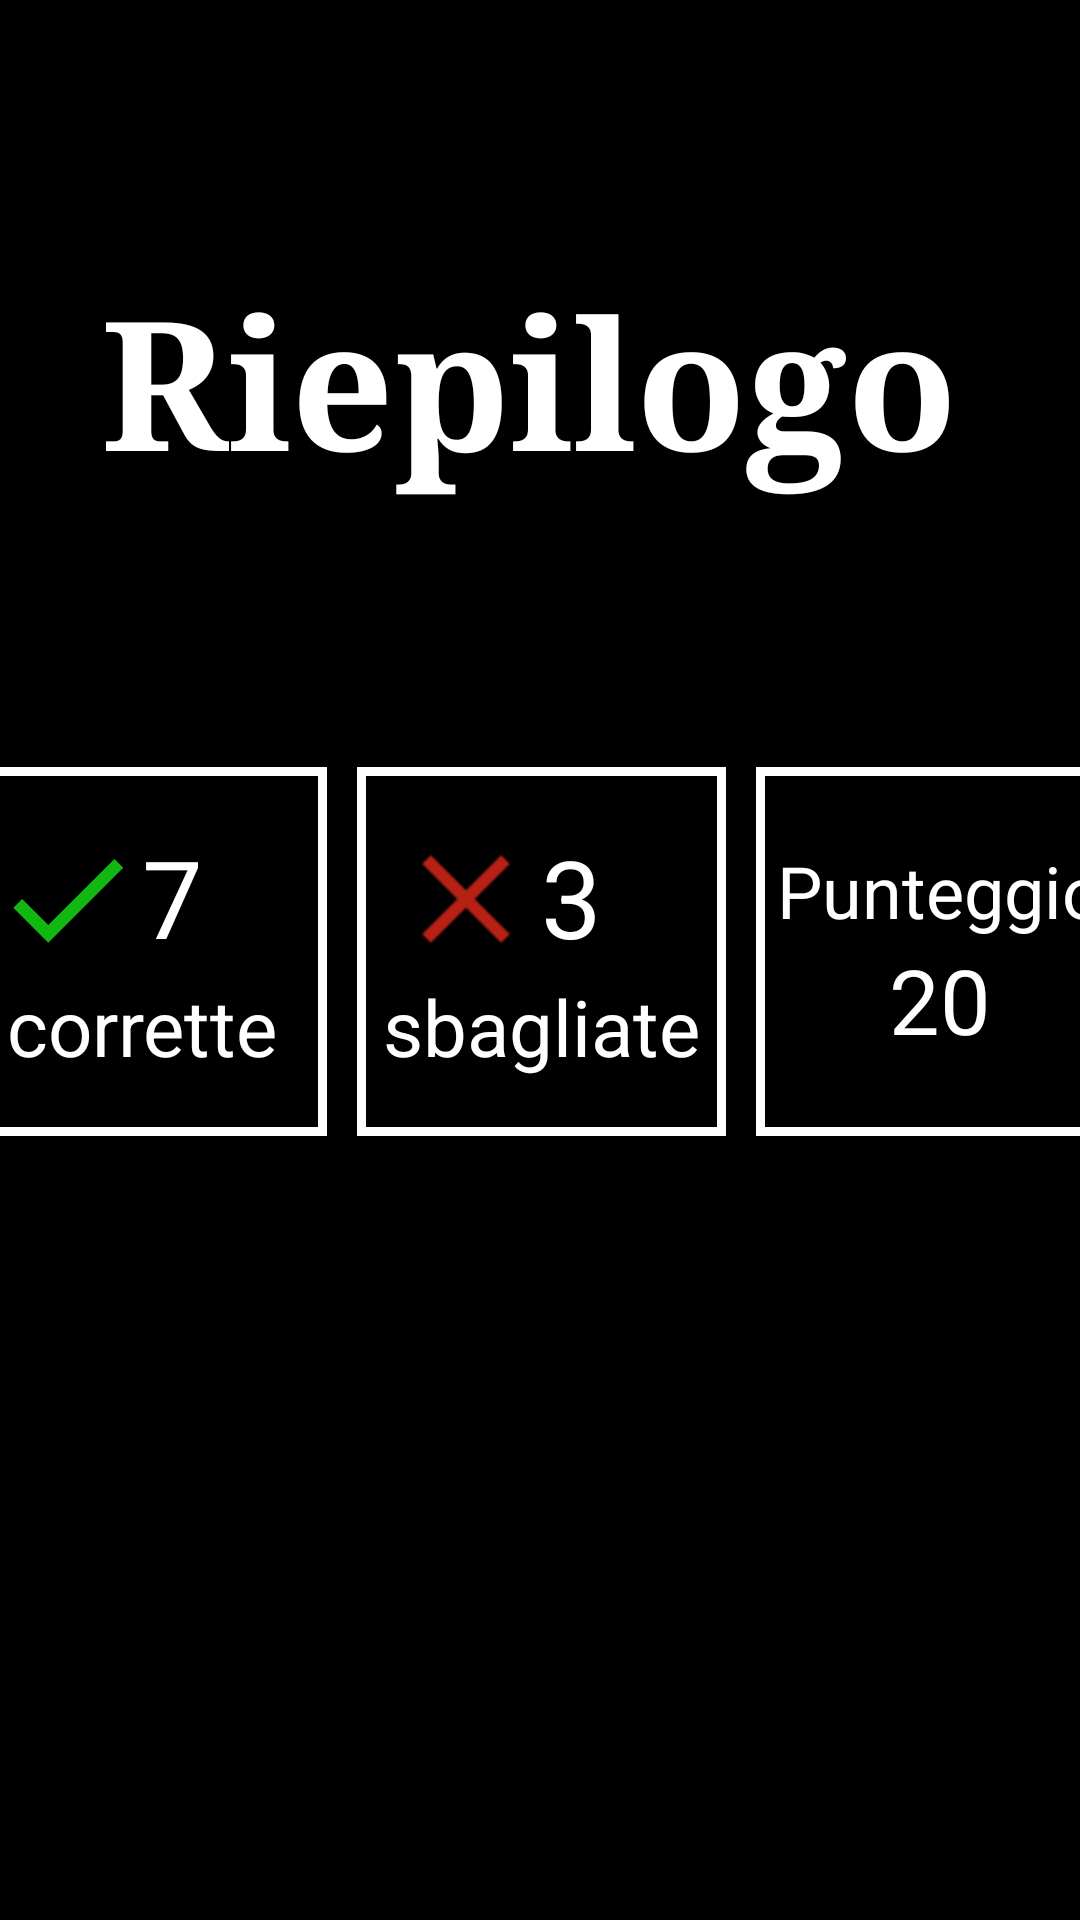

Point at icon controls on the screen. Image size 1080×1920, points as (x,y).
error: (466,899)
